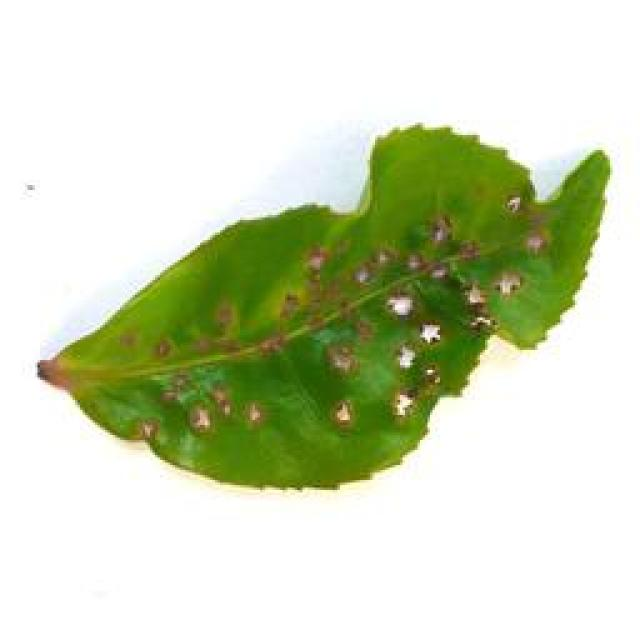Helopeltis: (35, 124, 615, 493)
